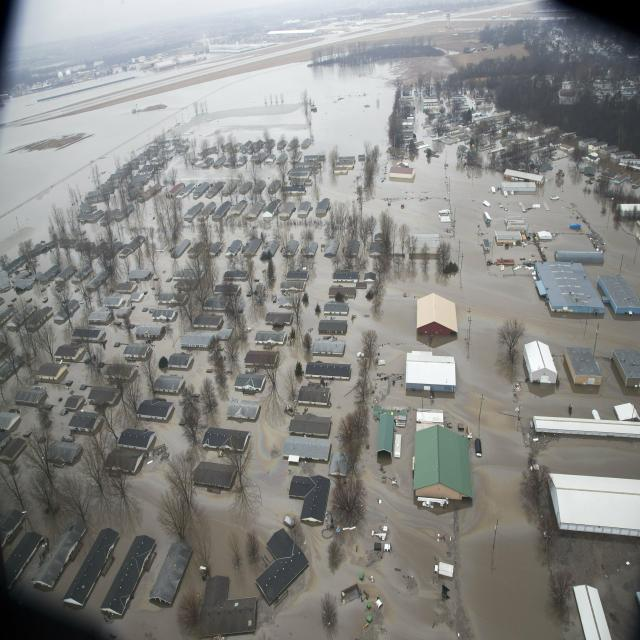flooded_areas: (0, 89, 632, 634)
